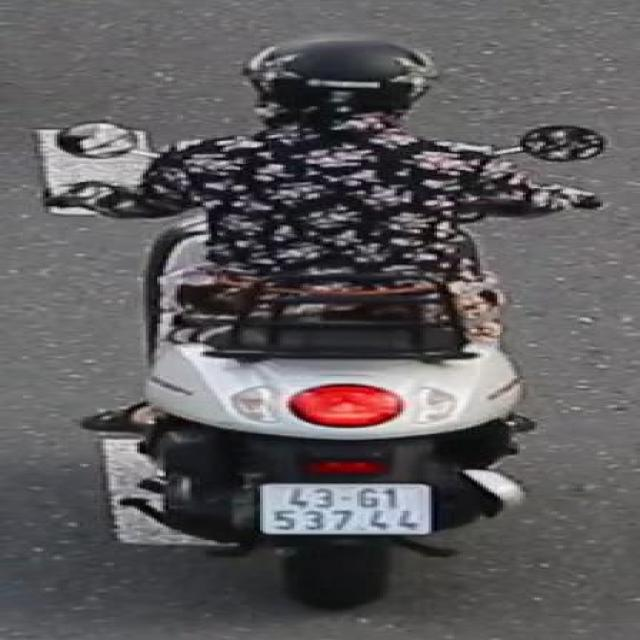LP: (256, 477, 438, 539)
helmet: (241, 34, 436, 143)
